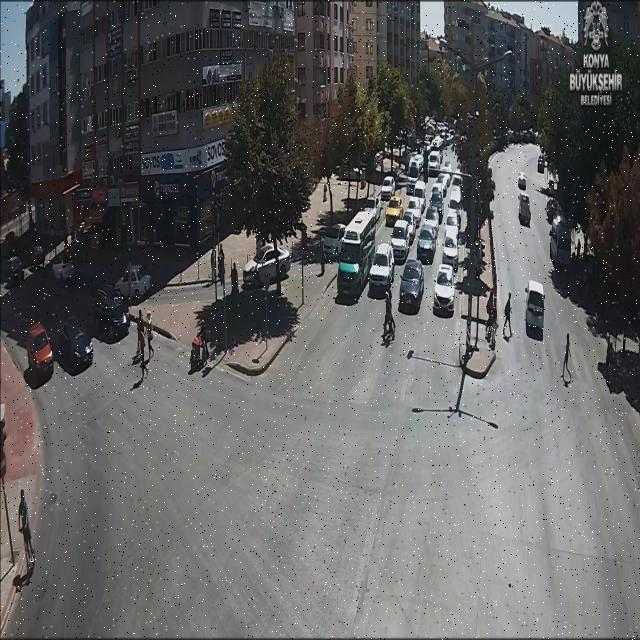Bus: (338, 210, 376, 296)
Car: (242, 242, 290, 288), (92, 284, 130, 338), (59, 319, 95, 372), (25, 323, 54, 382), (430, 263, 460, 318), (114, 263, 152, 300), (369, 242, 397, 292), (399, 260, 425, 311), (320, 223, 346, 261), (391, 218, 414, 259), (417, 226, 438, 263), (52, 256, 78, 282), (442, 231, 459, 269), (386, 195, 406, 225), (4, 256, 24, 286), (404, 197, 424, 225), (432, 174, 450, 202), (406, 154, 424, 182), (409, 180, 426, 207), (424, 207, 441, 233), (401, 210, 418, 236), (428, 187, 444, 214), (427, 149, 442, 176), (518, 195, 531, 225), (445, 208, 460, 234), (380, 176, 396, 200), (366, 191, 381, 214), (448, 186, 462, 210), (440, 161, 453, 184), (406, 174, 420, 193), (450, 174, 462, 192), (432, 136, 444, 152), (436, 122, 448, 138), (517, 172, 527, 190), (420, 141, 431, 157), (537, 156, 545, 172), (424, 134, 434, 146), (445, 131, 455, 143)
Van: (525, 280, 547, 336)
